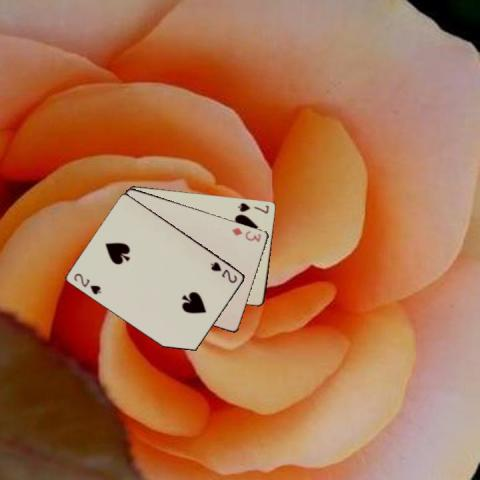2s: (207, 258, 239, 284), (71, 270, 103, 296)
3d: (229, 225, 263, 243)
7s: (235, 199, 270, 215)
